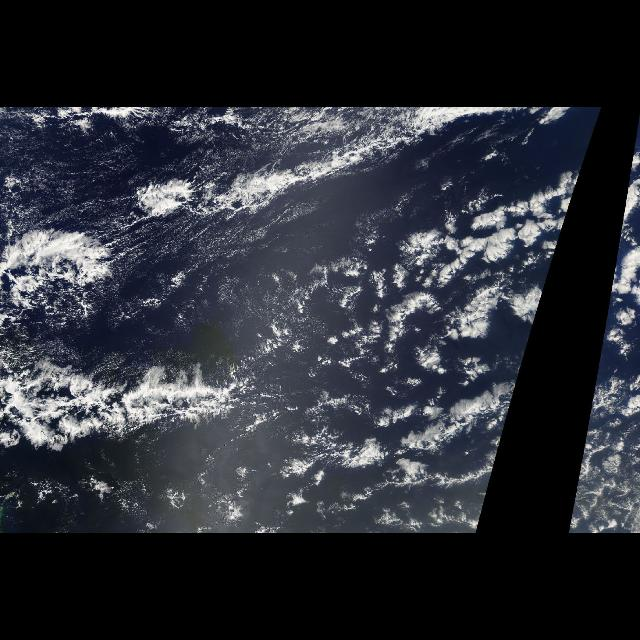Fish: (82, 130, 478, 238), (2, 346, 268, 456)
Flower: (296, 208, 528, 530)
Sugar: (120, 224, 326, 374)
